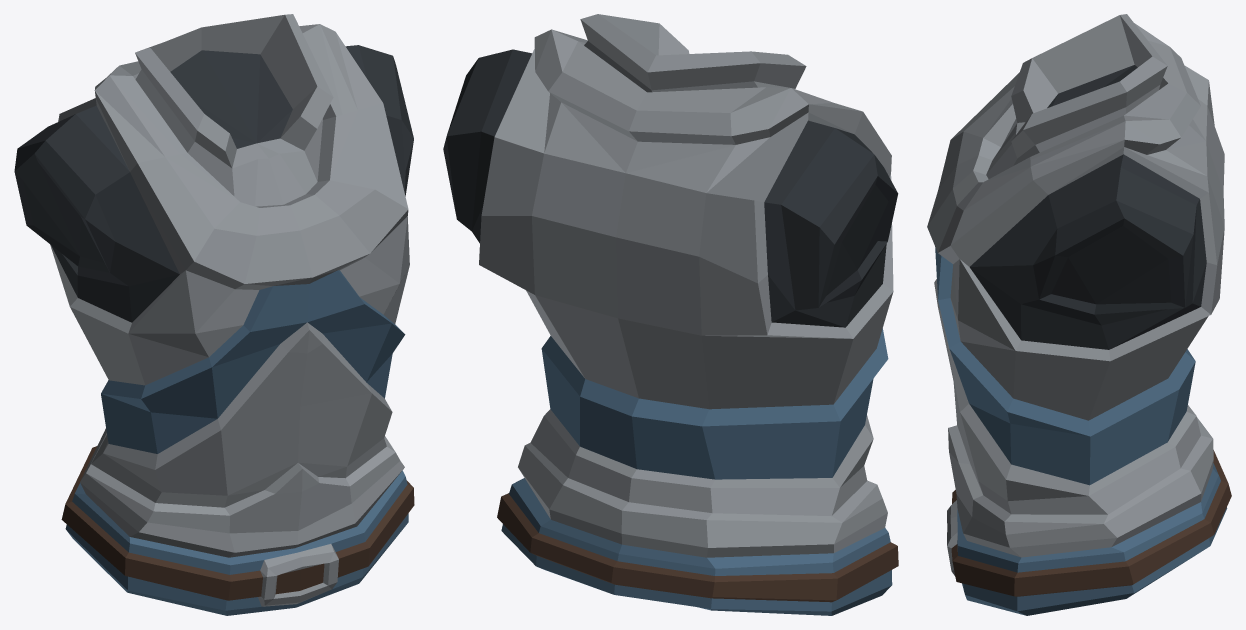
File: Chr_Torso_Male_20_Static.fbx
The picture shows the model from 3 angles, left to right: view 1: azimuth 30°, elevation 25°; view 2: azimuth 150°, elevation 25°; view 3: azimuth 270°, elevation 25°; orthographic projection. The views are drawn at different scales.
Parts seen in each view (by area): view 1: Chr_Torso_Male_20_Static; view 2: Chr_Torso_Male_20_Static; view 3: Chr_Torso_Male_20_Static.
Part boxes in pixels (x1,y1,x2,y2): Chr_Torso_Male_20_Static: (14, 14, 414, 615); Chr_Torso_Male_20_Static: (443, 14, 898, 615); Chr_Torso_Male_20_Static: (927, 14, 1231, 615).
Size of the model in its own units: 0.502 by 0.6886 by 0.3622.
